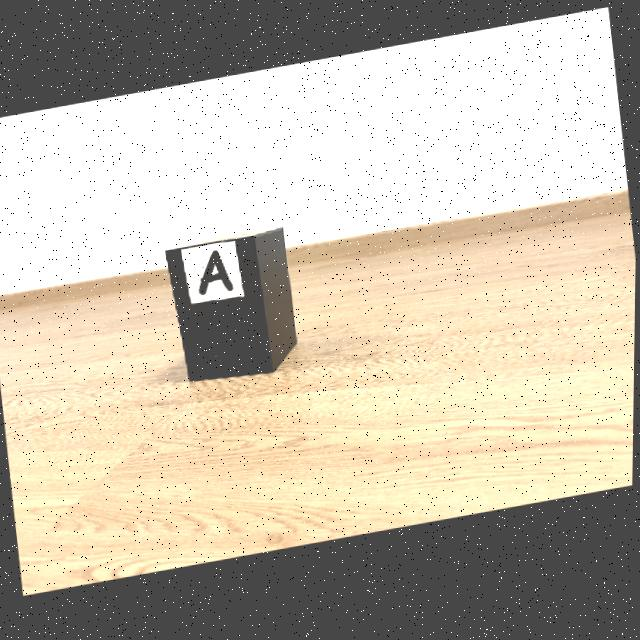A: (200, 253, 234, 297)
